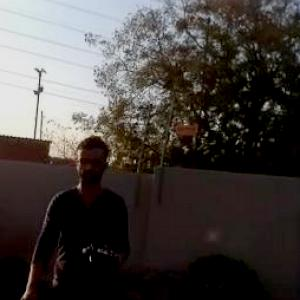follow: (5, 127, 139, 299)
